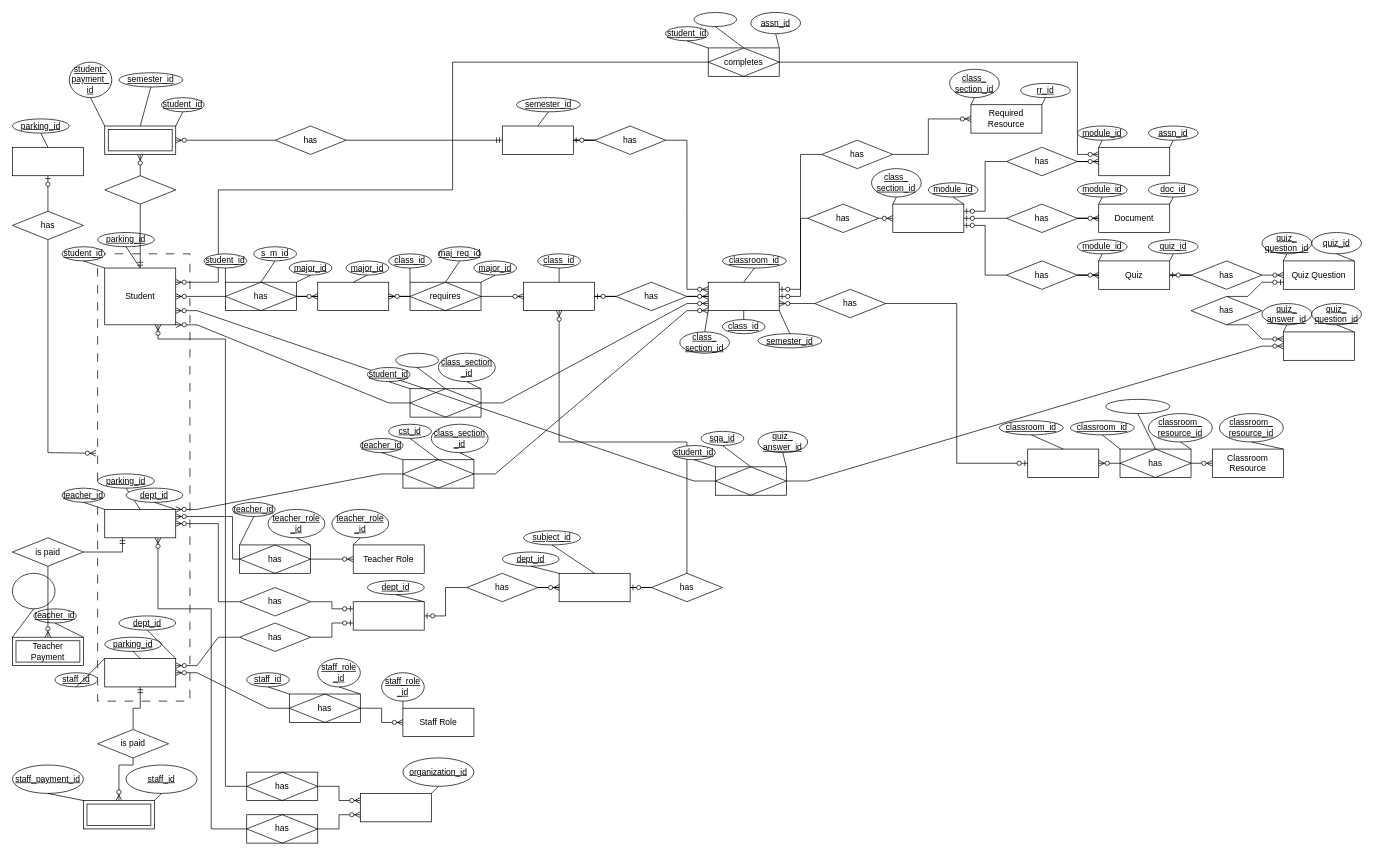
The diagram is 1374 pixels wide and 856 high, and some of its shapes have lost their labels. Each missing label, with the box of its shape:
answers: (715, 466, 786, 495)
Assignment: (1098, 147, 1170, 176)
ccr_id: (1105, 399, 1170, 414)
Class: (523, 282, 595, 311)
Class Section: (708, 282, 779, 311)
Classroom: (1027, 448, 1099, 477)
css_id: (395, 353, 438, 367)
Department: (353, 601, 424, 630)
Major: (317, 282, 389, 311)
makes: (104, 175, 176, 204)
Module: (892, 203, 964, 233)
Organization: (360, 793, 431, 822)
Parking lot: (12, 147, 83, 176)
Quiz Answer: (1283, 331, 1354, 360)
sca_id: (693, 12, 737, 27)
Semester: (502, 125, 573, 154)
Staff Member: (104, 658, 176, 687)
Staff Payment: (83, 800, 154, 829)
Student Payment: (104, 125, 176, 154)
Subject: (558, 573, 630, 602)
takes: (409, 388, 481, 417)
Teacher: (104, 509, 176, 538)
teacher_ payment_ id: (12, 573, 55, 609)
teaches: (402, 459, 474, 488)
